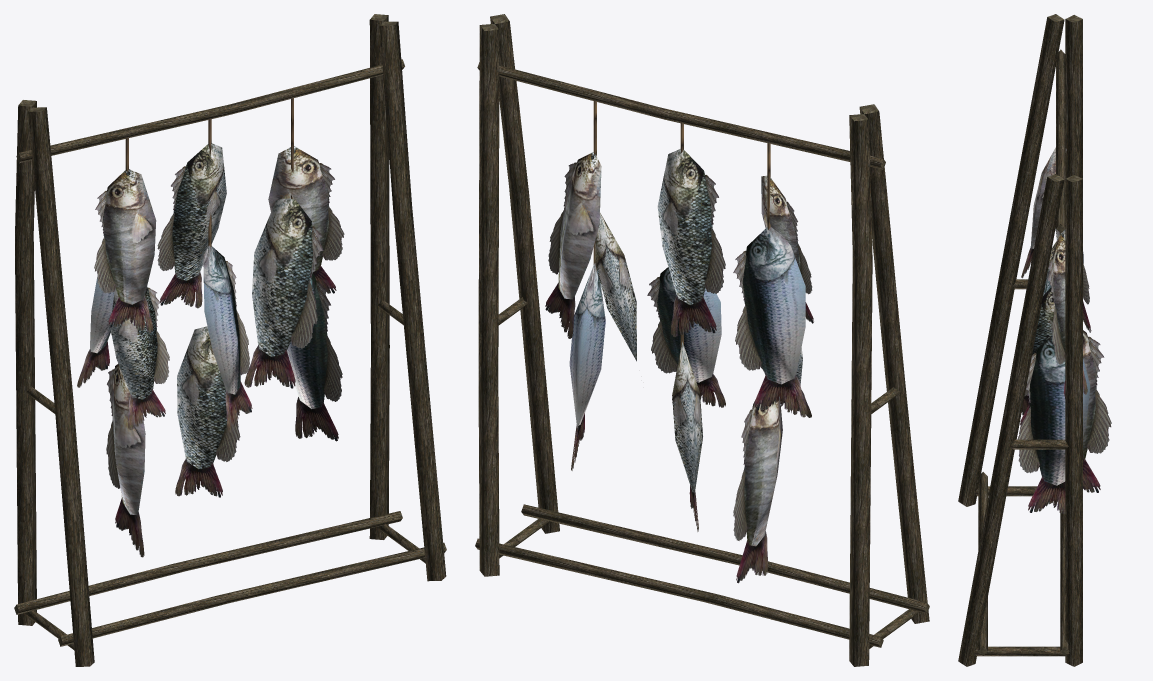
The model's file is thm_dant_fish_l1.fbx.
3 renders of one model, left to right at view 1: azimuth 30°, elevation 25°; view 2: azimuth 150°, elevation 25°; view 3: azimuth 270°, elevation 25°, orthographic. The views are drawn at different scales.
Parts seen in each view (by area): view 1: mesh_node; view 2: mesh_node; view 3: mesh_node.
Part boxes in pixels (x1,y1,x2,y2): mesh_node: [14, 14, 446, 666]; mesh_node: [475, 14, 929, 666]; mesh_node: [958, 14, 1111, 666].
Bounding box in the file's own units: 1.39 × 1.81 × 0.6098.
